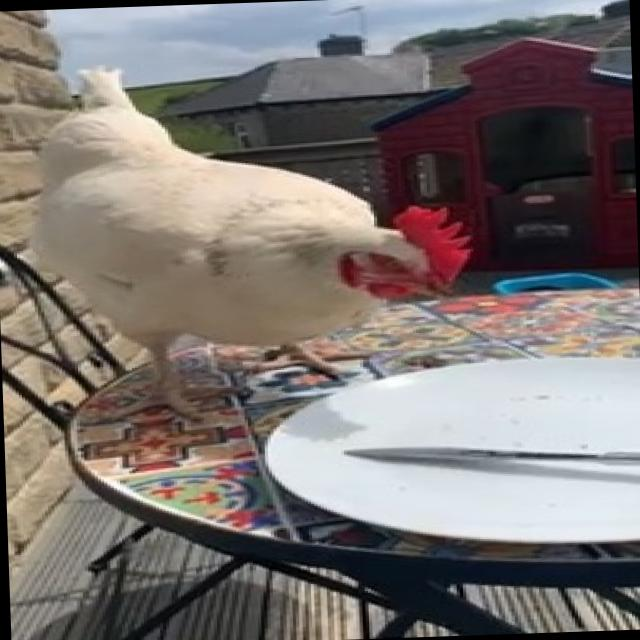pecking: (26, 49, 484, 418)
